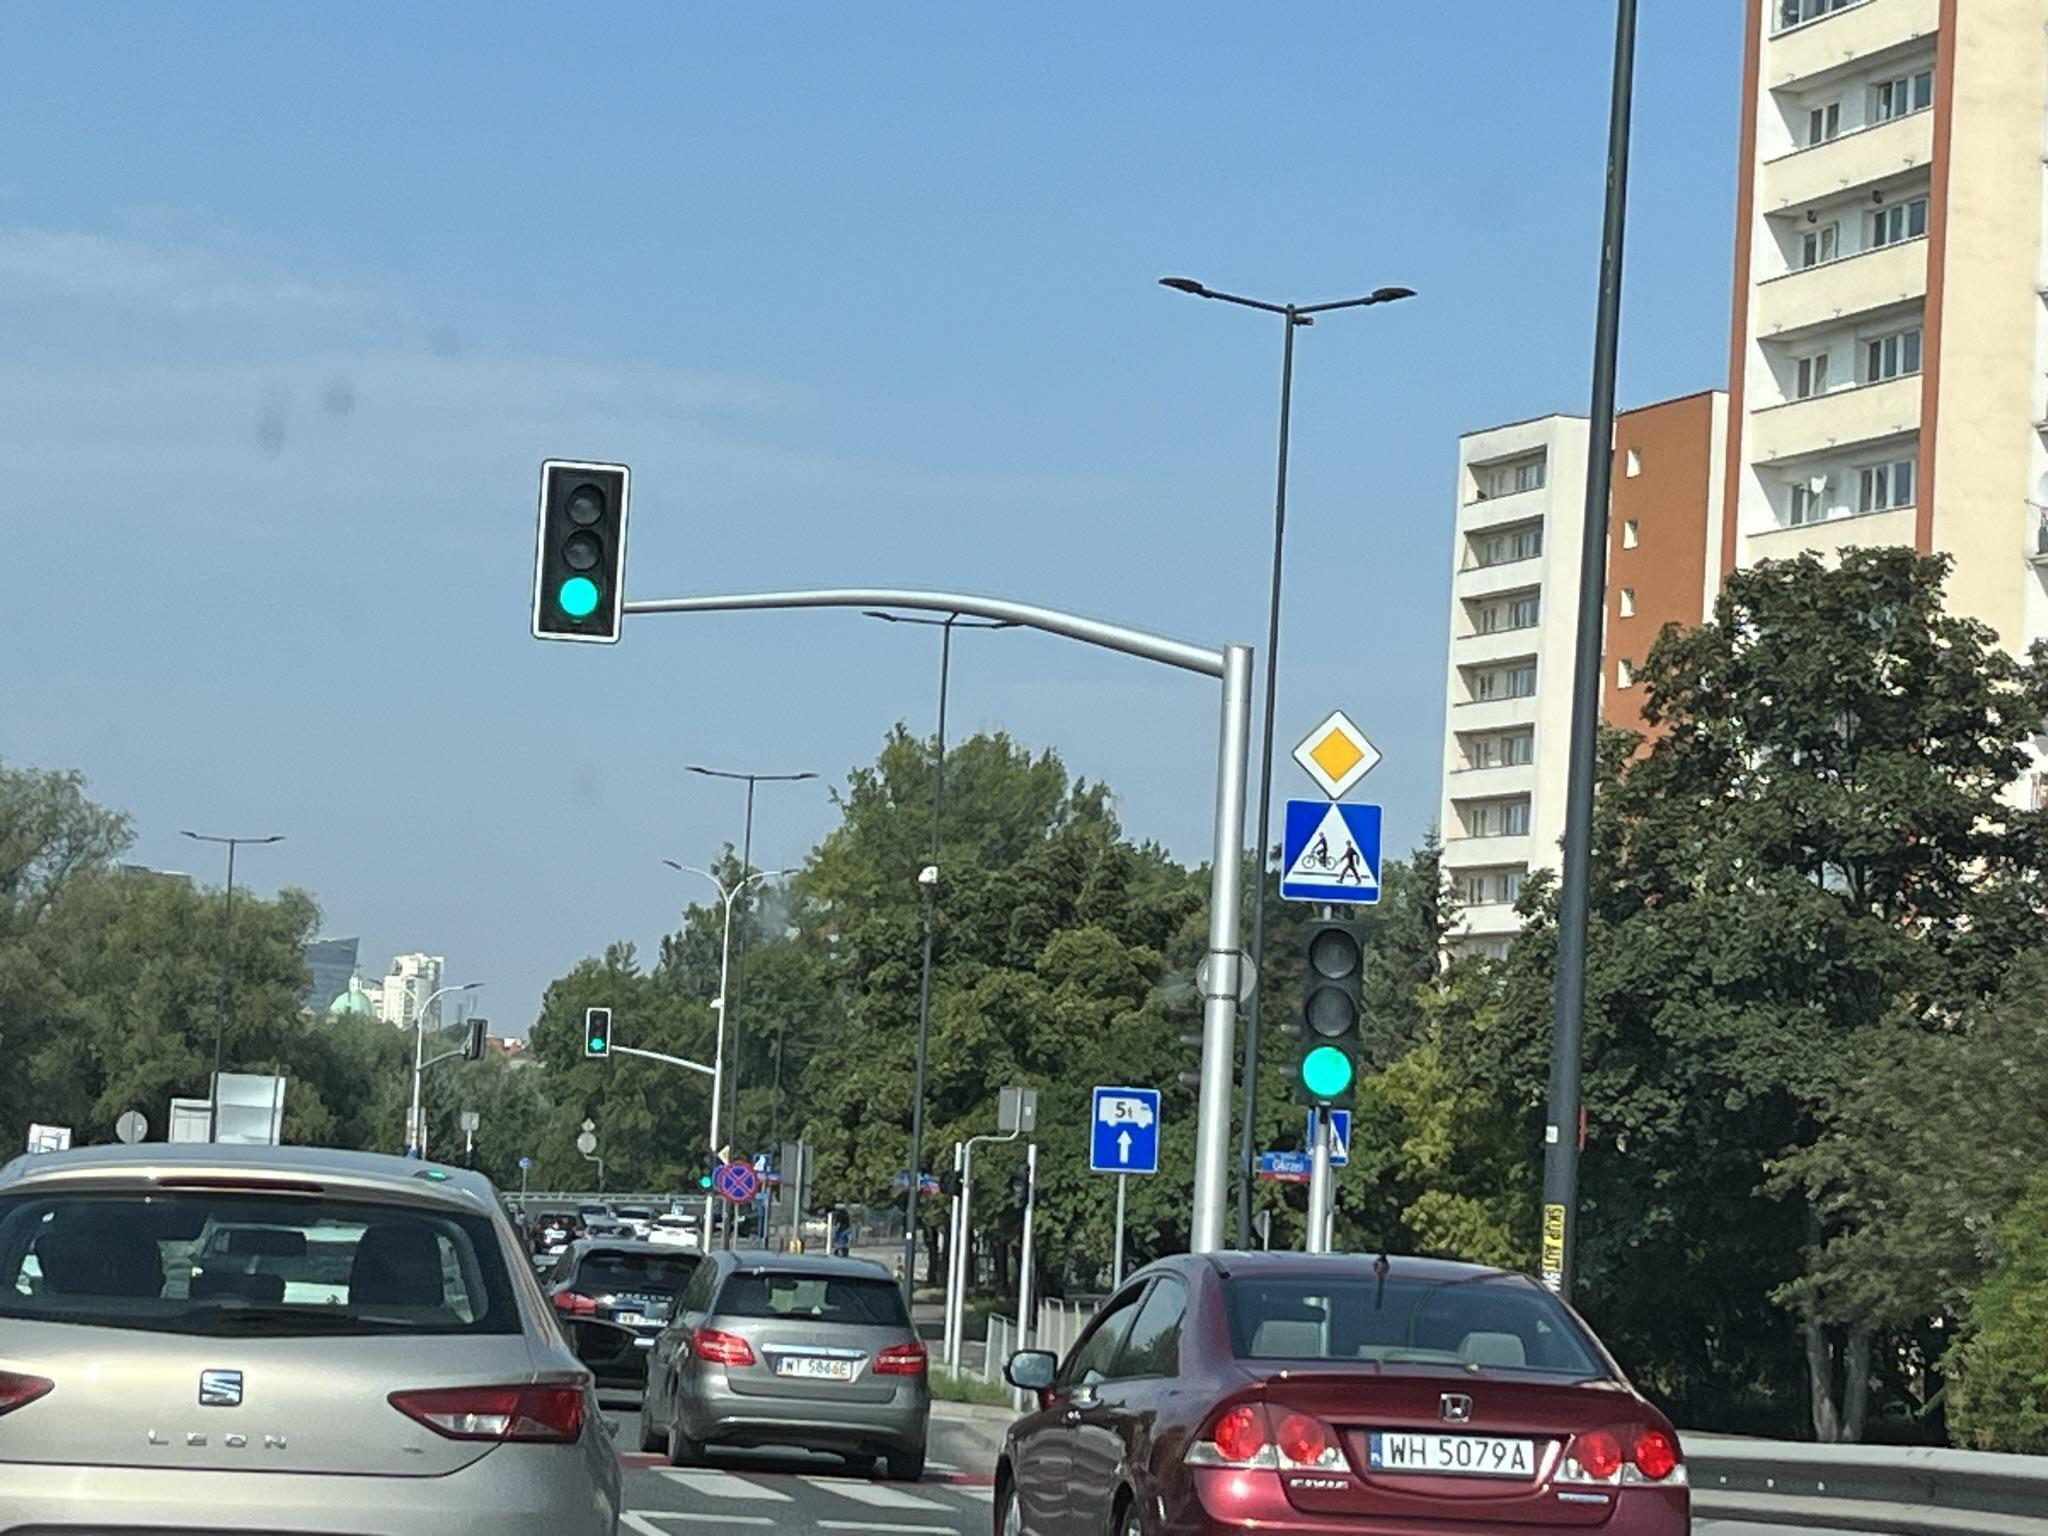information: (1282, 799, 1384, 904), (1288, 707, 1384, 800)
prohibitory: (719, 1163, 758, 1204)
